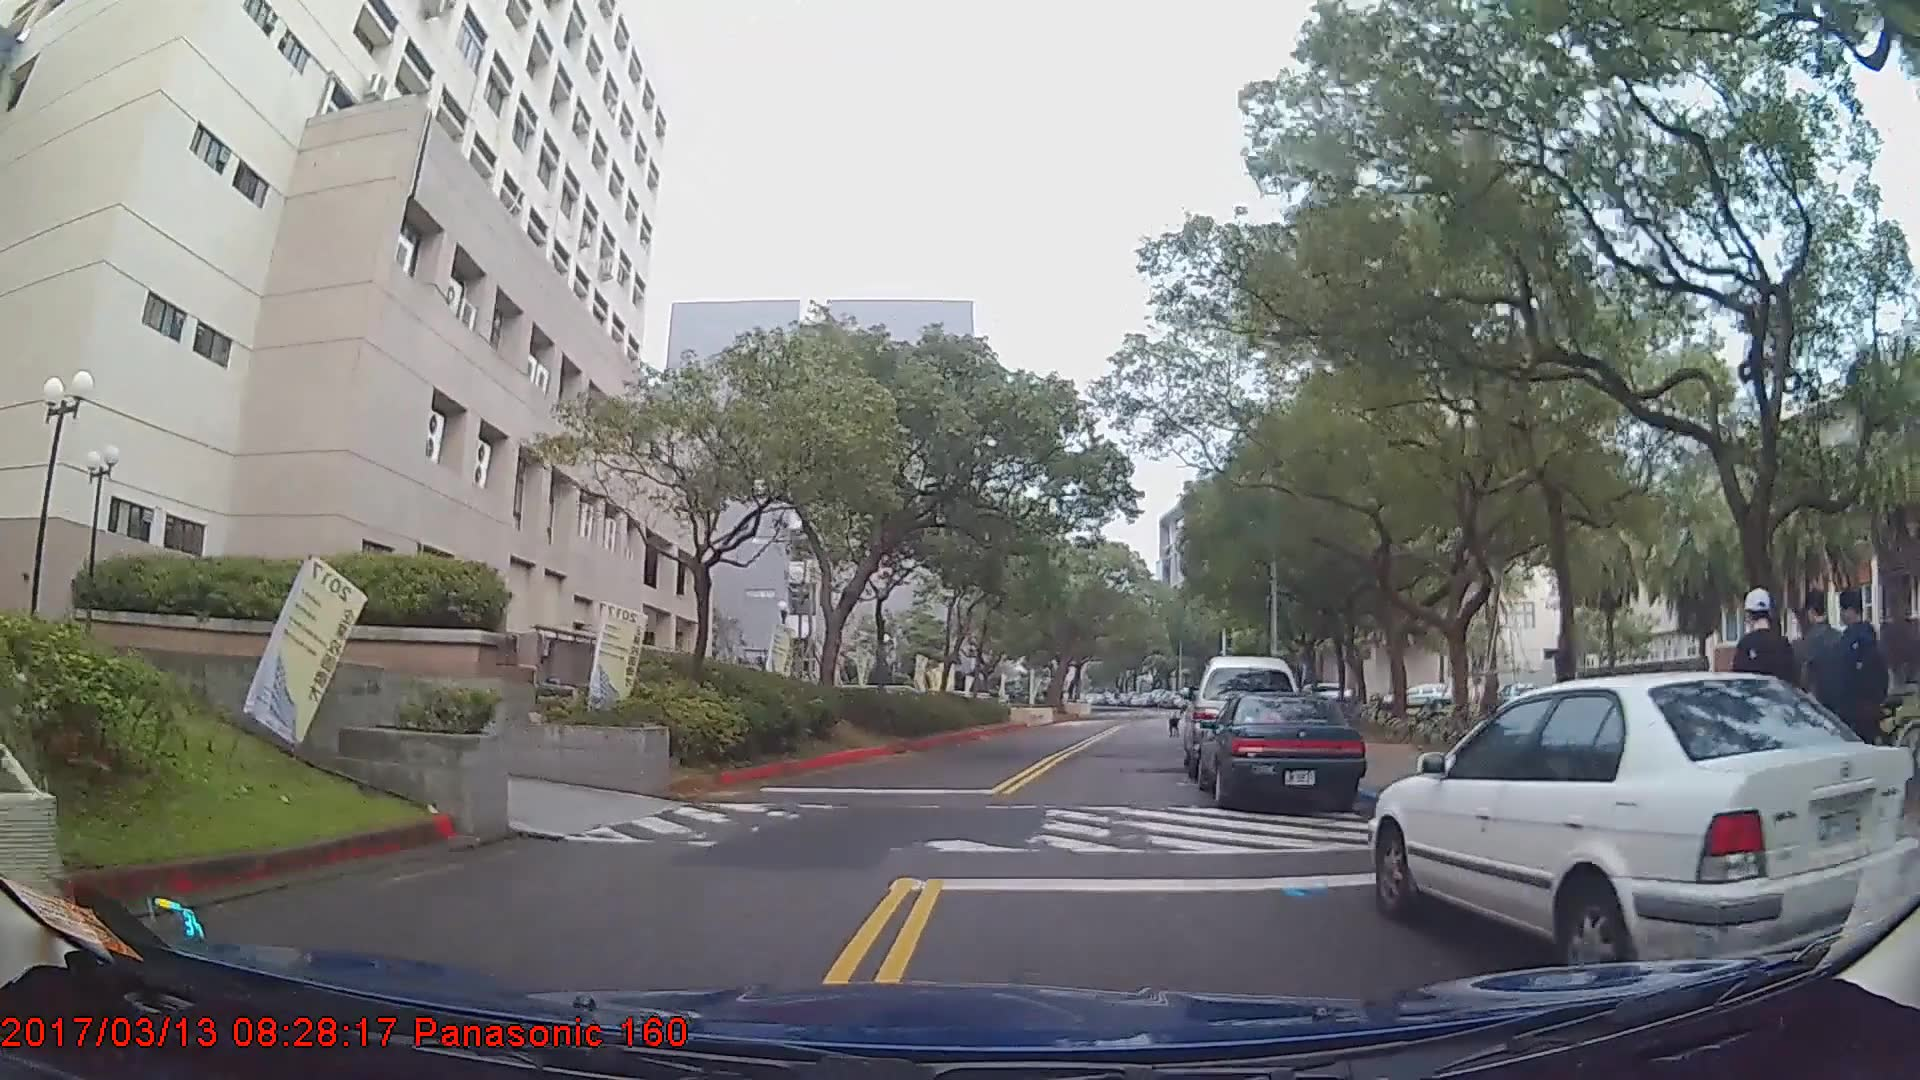pedestrian: (1784, 586, 1879, 824), (1732, 587, 1803, 833)
vehicle: (1373, 671, 1919, 1003), (1193, 691, 1368, 812)
